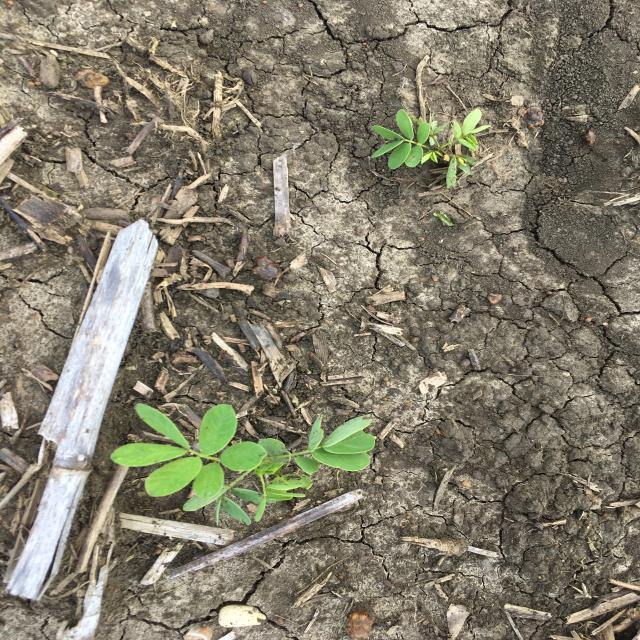Sicklepod: (109, 401, 380, 528), (368, 107, 496, 190)
